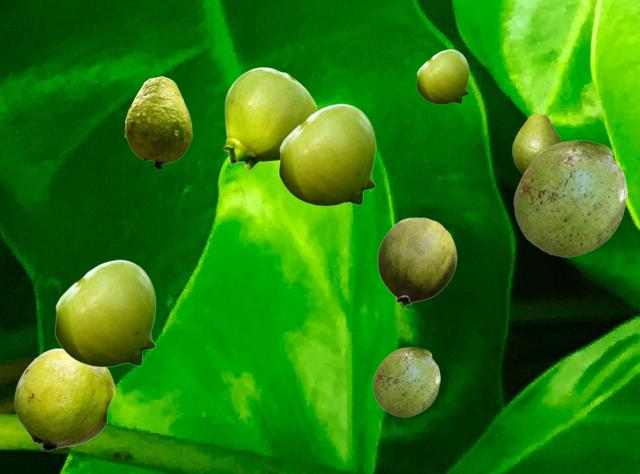guava: (513, 140, 626, 256), (54, 259, 155, 366), (14, 348, 114, 450), (278, 103, 375, 205), (223, 67, 317, 169), (377, 217, 456, 305), (124, 76, 191, 168), (372, 347, 439, 416), (512, 113, 562, 174), (416, 49, 468, 103)
